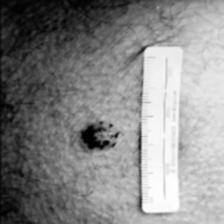Toxin: (88, 130, 110, 144)
